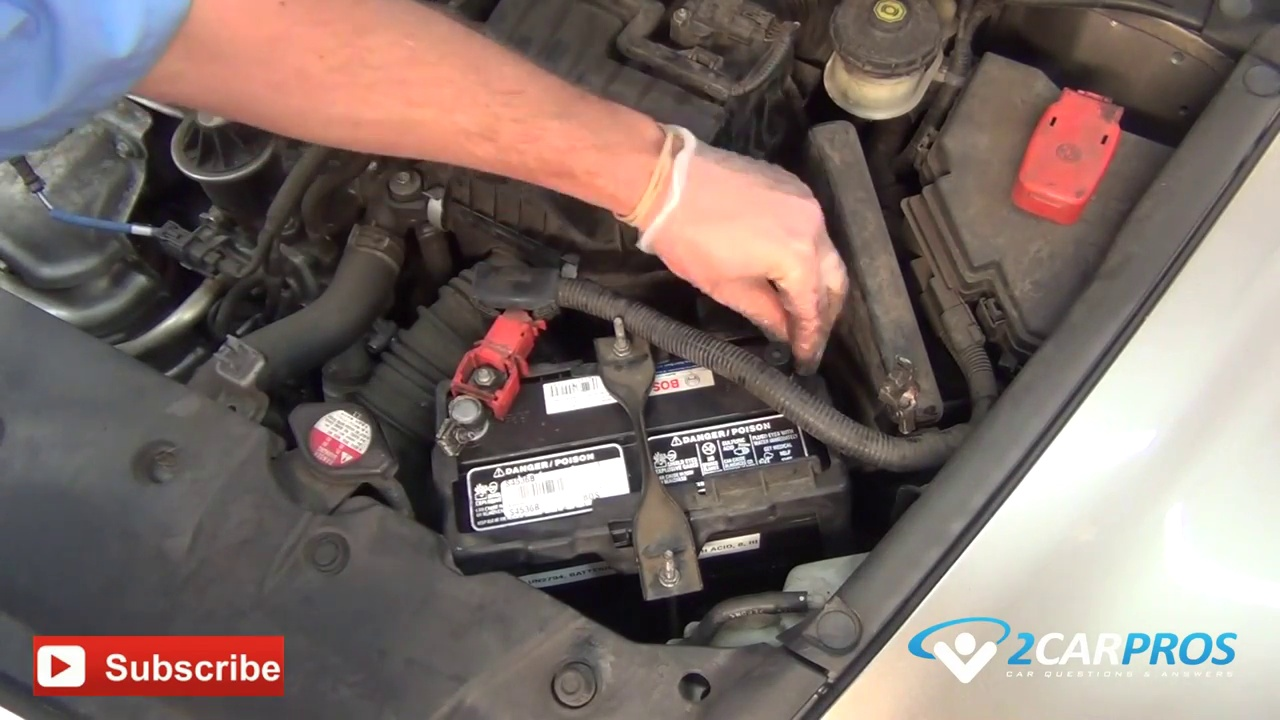battery: (430, 305, 840, 585)
neg_touched: (733, 238, 841, 387)
pos_connected: (437, 307, 530, 477)
